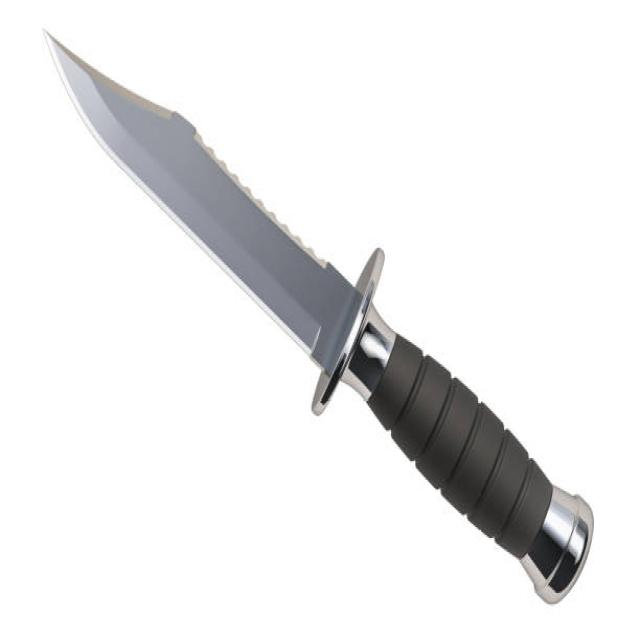knife: (37, 20, 604, 609)
